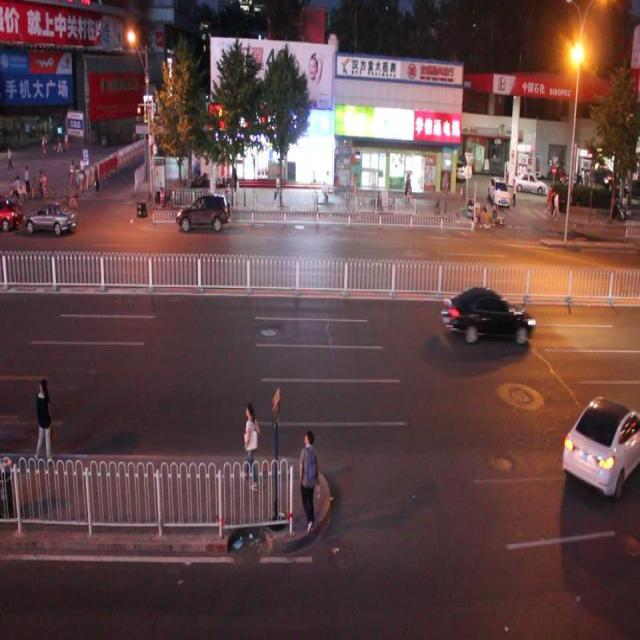car: (563, 390, 640, 494), (443, 282, 533, 347), (24, 198, 77, 238), (176, 192, 230, 231)
